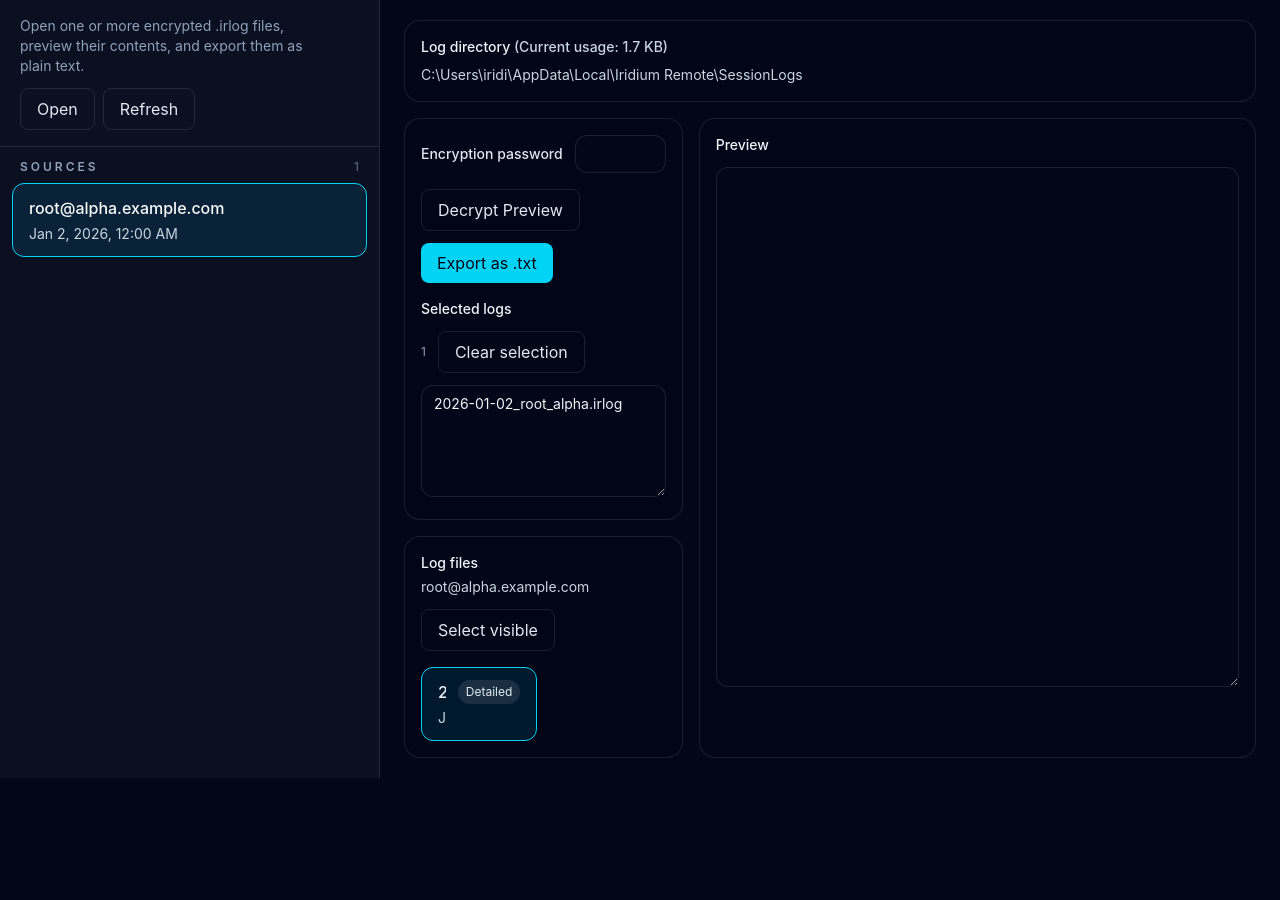
it: SessionLogsWorkspace › preserves the list and selection after refresh failure, then reconciles them on success
The image size is (1280, 900).
Expected: the text box named "Selected logs" holds "2026-01-02_root_alpha.irlog", [421, 385, 666, 497]
Click the button "Refresh" at x=149, y=109, box [103, 88, 195, 130]
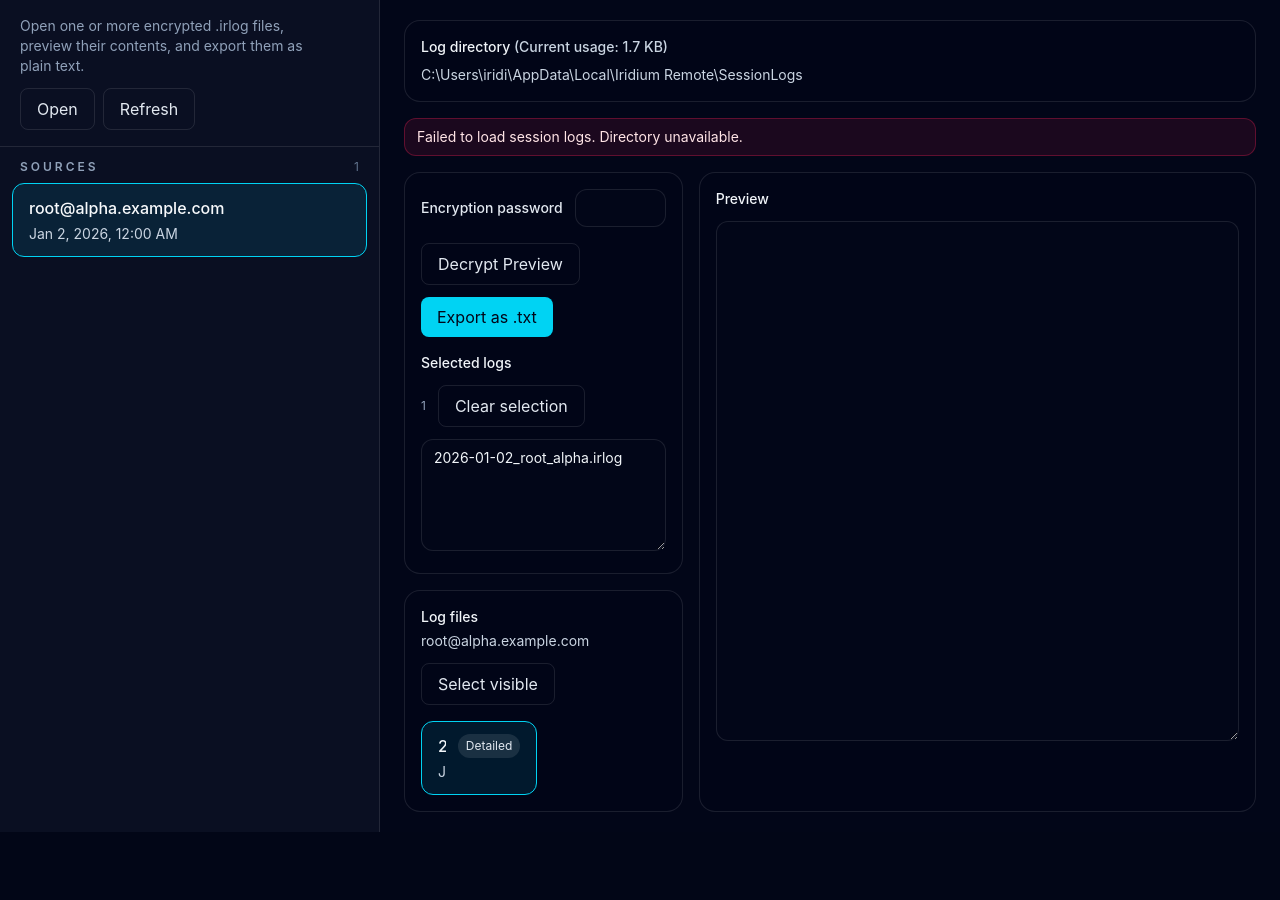
Expected: the text box named "Selected logs" holds "2026-01-02_root_alpha.irlog", [421, 439, 666, 551]
Expected: the message shows "Directory unavailable.", [599, 128, 743, 145]
Click the button "Refresh" at x=149, y=109, box [103, 88, 195, 130]
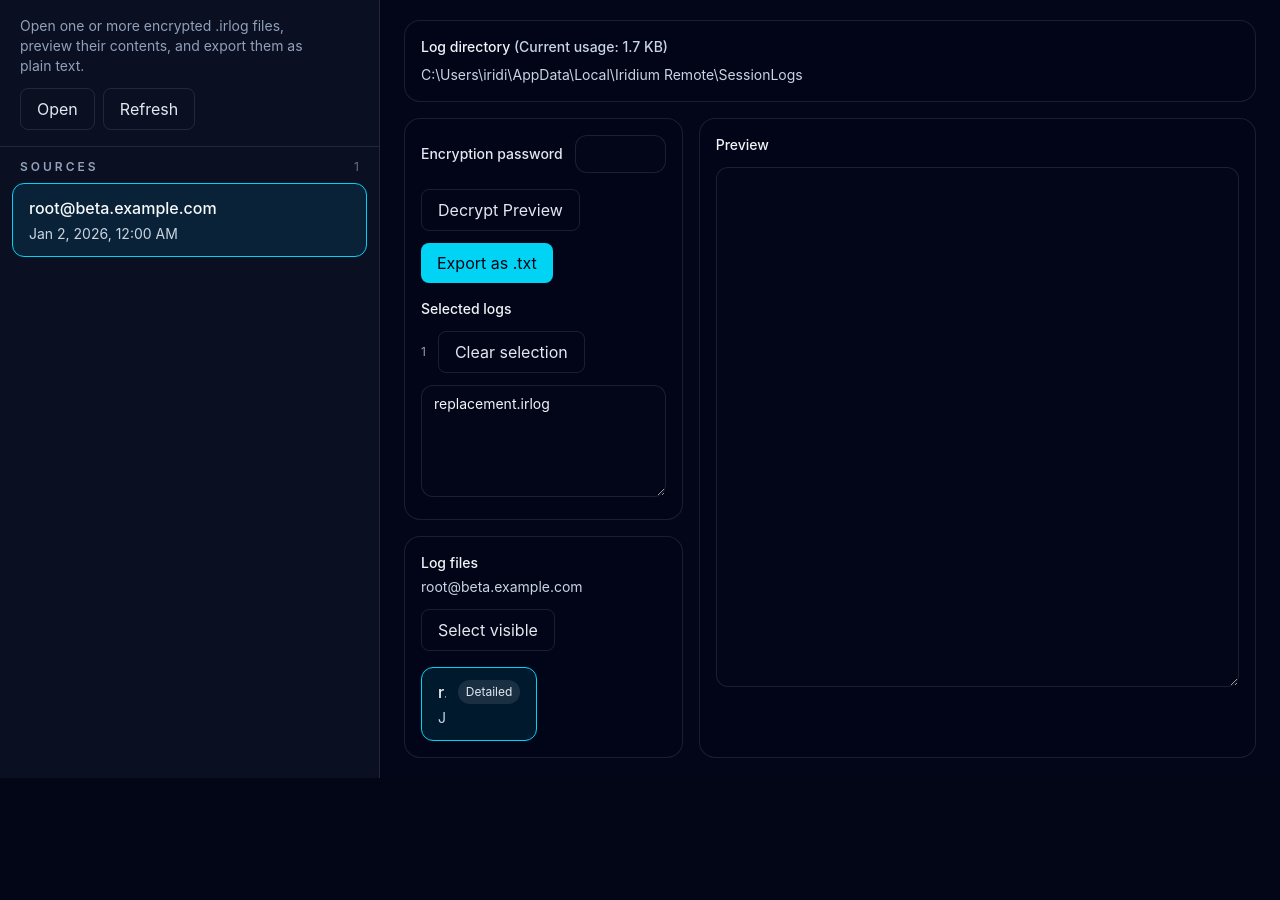
Expected: the text box named "Selected logs" holds "replacement.irlog", [421, 385, 666, 497]
Expected: the message "Failed to load session logs. Directory unavailable." is gone
Expected: the text "root@beta.example.com" below "Selected logs" is shown, [421, 578, 583, 595]
